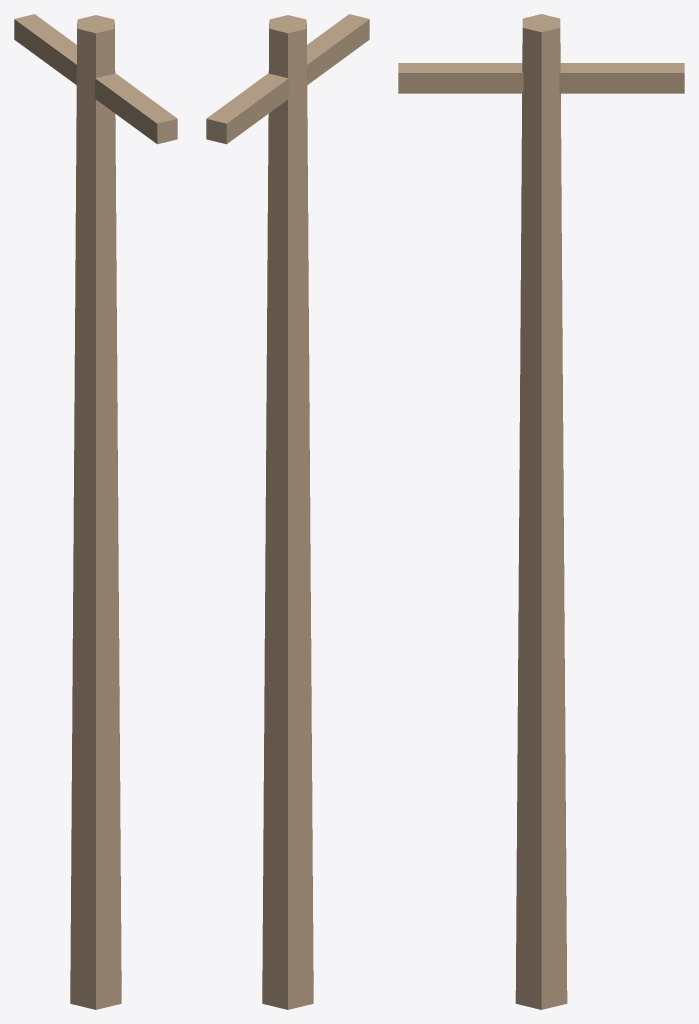
The model's file is power-pole-far.glb.
3 views of the same model, side by side, from view 1: azimuth 30°, elevation 25°; view 2: azimuth 150°, elevation 25°; view 3: azimuth 270°, elevation 25° (orthographic).
Parts seen in each view (by area): view 1: power-pole-far; view 2: power-pole-far; view 3: power-pole-far.
Part boxes in pixels (bbox=[...]): power-pole-far: bbox=[14, 14, 177, 1009]; power-pole-far: bbox=[206, 14, 369, 1009]; power-pole-far: bbox=[398, 14, 684, 1009].
Size of the model in its own units: 0.0536 by 0.9714 by 0.2589.
